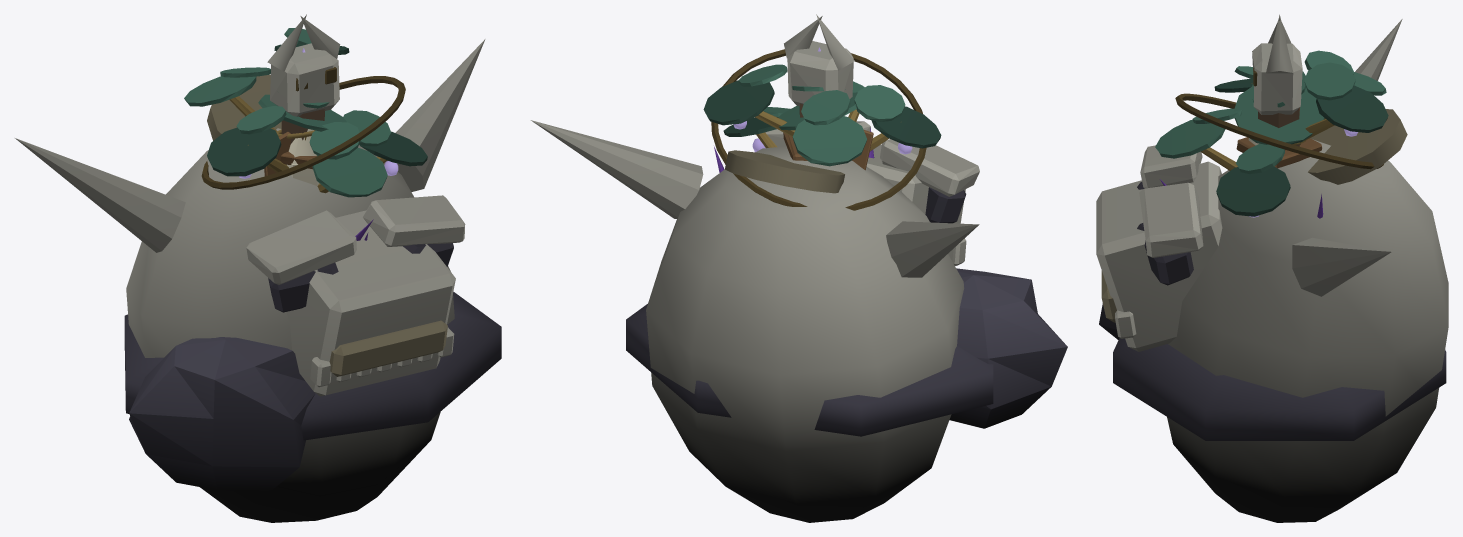
The model's file is props_gokcark.glb.
3 views of the same model, side by side, from view 1: azimuth 30°, elevation 25°; view 2: azimuth 150°, elevation 25°; view 3: azimuth 270°, elevation 25° (orthographic). The views are drawn at different scales.
Parts seen in each view (by area): view 1: kafatasi, agac, totem, tuzsutun; view 2: kafatasi, agac, totem; view 3: kafatasi, agac, totem.
Boxes of the visible parts, x1,y1,x2,y2 form: kafatasi: (15, 39, 501, 522); agac: (184, 28, 427, 197); totem: (264, 14, 340, 176); tuzsutun: (287, 129, 319, 185); kafatasi: (530, 120, 1067, 522); agac: (703, 47, 941, 210); totem: (783, 14, 873, 170); kafatasi: (1096, 19, 1448, 522); agac: (1155, 50, 1388, 217); totem: (1236, 14, 1322, 168).
Bounding box in the file's own units: 229 × 237 × 153.
